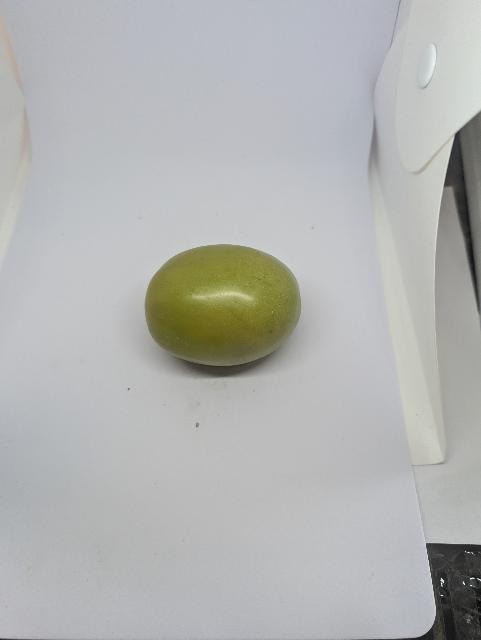green: (129, 236, 325, 383)
